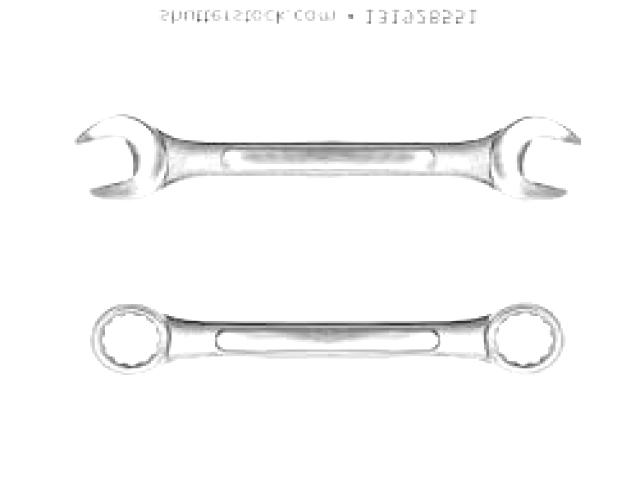Wrench: (76, 116, 581, 202), (90, 305, 565, 376)
